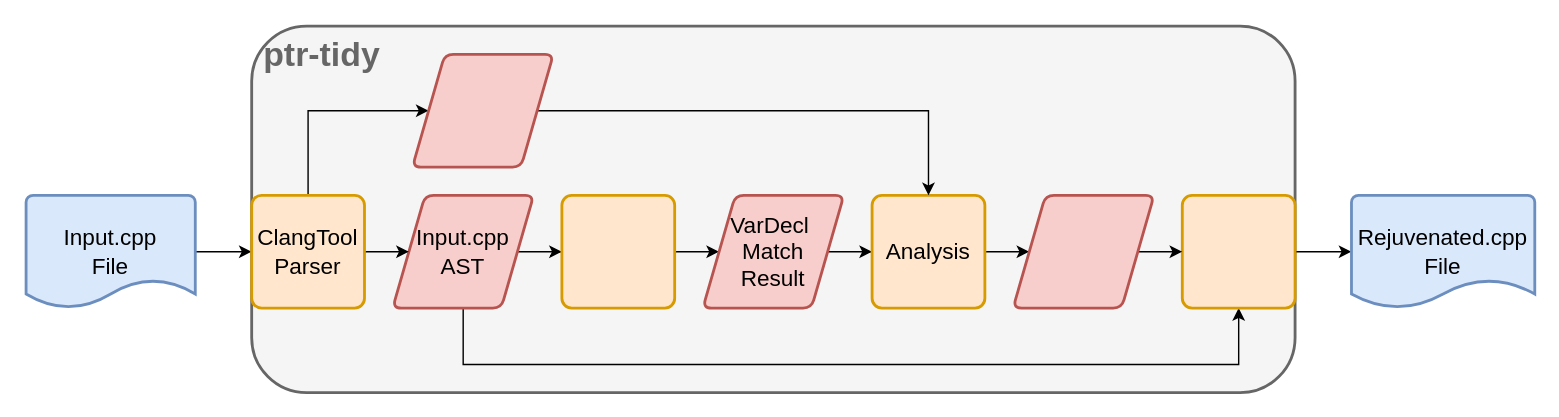
Some shapes in this 1559 by 417 pixel diagram are drawn without their labels. The box of each missing label's shape, as (x1, y1, x2, y2) in pixels:
Analysis Result: (1011, 193, 1155, 309)
Input.cpp IR: (410, 52, 554, 168)
Rewriter: (1180, 193, 1296, 309)
VarDecl Matcher: (560, 193, 675, 309)
